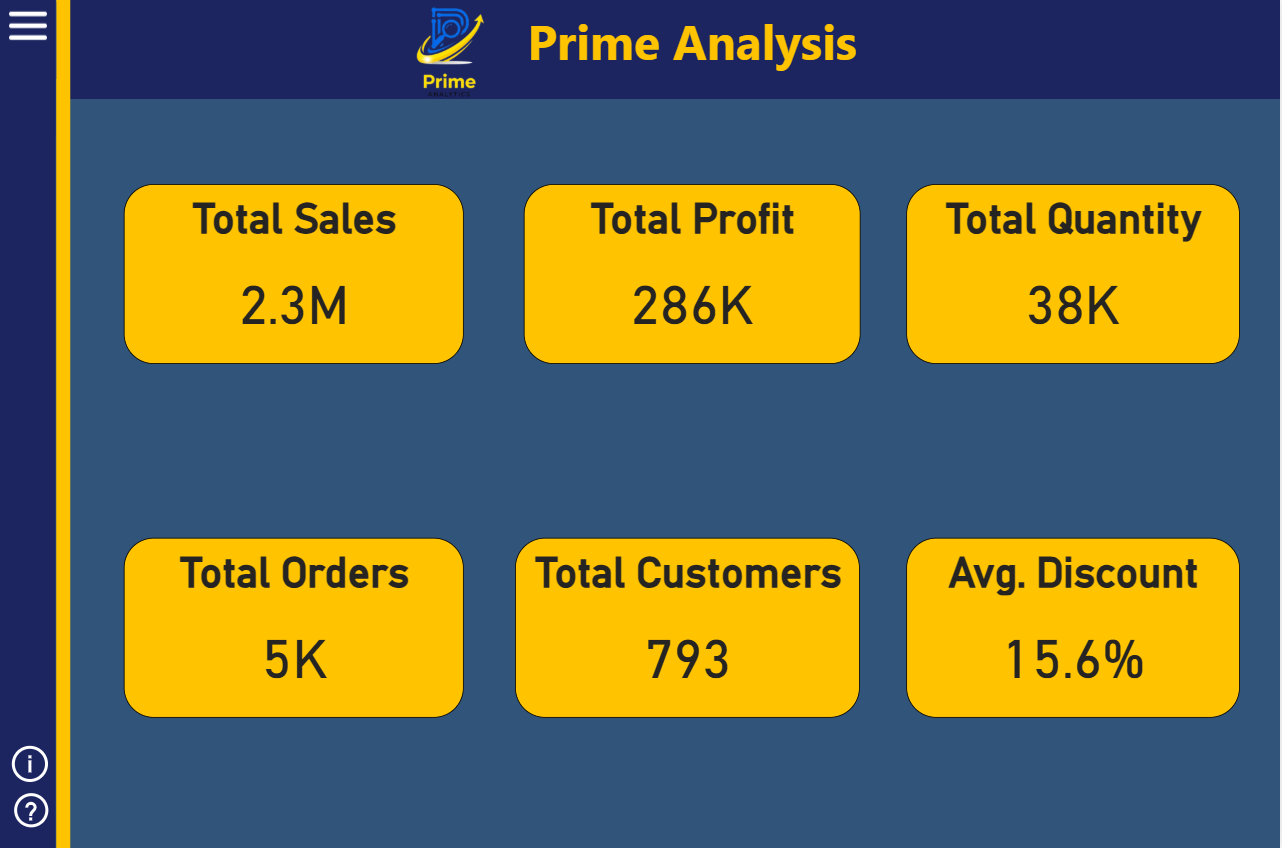

This screenshot's page, from the dashboard's own definition file:
{"tool":"powerbi","page":{"name":"KPIs","canvas":[1280,850],"ordinal":0},"visuals":[{"type":"shape","box":[0,0,55.7,850],"z":9000},{"type":"shape","box":[70,0,1210,100],"z":10000},{"type":"shape","box":[56,0,14,850],"z":11000},{"type":"textbox","box":[522.6,4,462.1,90],"z":12000},{"type":"card","title":"Total Quantity","fields":{"Values":["DaxMeasure.Total_Quantity"]},"box":[906.7,185,333.3,180],"z":13000},{"type":"card","title":"Total Sales","fields":{"Values":["DaxMeasure.Total_Sales"]},"box":[123.3,185,340,180],"z":14000},{"type":"card","title":"Total Orders","fields":{"Values":["DaxMeasure.Total_Orders"]},"box":[123.3,538.7,340,180],"z":15000},{"type":"card","title":"Total Customers","fields":{"Values":["DaxMeasure.Total No. Customers"]},"box":[515,538.7,345,180],"z":16000},{"type":"card","title":"Total Profit","fields":{"Values":["DaxMeasure.Total_Profit"]},"box":[523.3,185,336.7,180],"z":17000},{"type":"card","title":"Avg. Discount","fields":{"Values":["DaxMeasure.Avg_Discount"]},"box":[906.7,538.7,333.3,180],"z":18000},{"type":"image","box":[393.3,0,112.2,103.3],"z":20000},{"type":"actionButton","title":"Help","box":[8.3,788.3,48.3,45],"z":20125},{"type":"actionButton","title":"Info","box":[6,741.3,74,47.3],"z":20250},{"type":"actionButton","title":"Menu","box":[4.7,4,51.3,46],"z":21000}]}

Visuals, with their boxes in screenshot pixels (x1, y1, x2, y2), scaled from the page's 1280x850 canvas onto the 1282x848 screenshot:
shape: <bbox>0, 0, 56, 847</bbox>
shape: <bbox>70, 0, 1281, 100</bbox>
shape: <bbox>56, 0, 70, 847</bbox>
textbox: <bbox>523, 4, 986, 94</bbox>
"Total Quantity" card: <bbox>908, 185, 1242, 364</bbox>
"Total Sales" card: <bbox>123, 185, 464, 364</bbox>
"Total Orders" card: <bbox>123, 537, 464, 717</bbox>
"Total Customers" card: <bbox>516, 537, 861, 717</bbox>
"Total Profit" card: <bbox>524, 185, 861, 364</bbox>
"Avg. Discount" card: <bbox>908, 537, 1242, 717</bbox>
image: <bbox>394, 0, 506, 103</bbox>
"Help" actionButton: <bbox>8, 786, 57, 831</bbox>
"Info" actionButton: <bbox>6, 740, 80, 787</bbox>
"Menu" actionButton: <bbox>5, 4, 56, 50</bbox>
